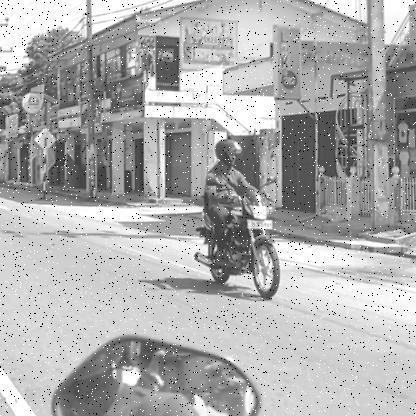motorcycle: (192, 188, 284, 301)
